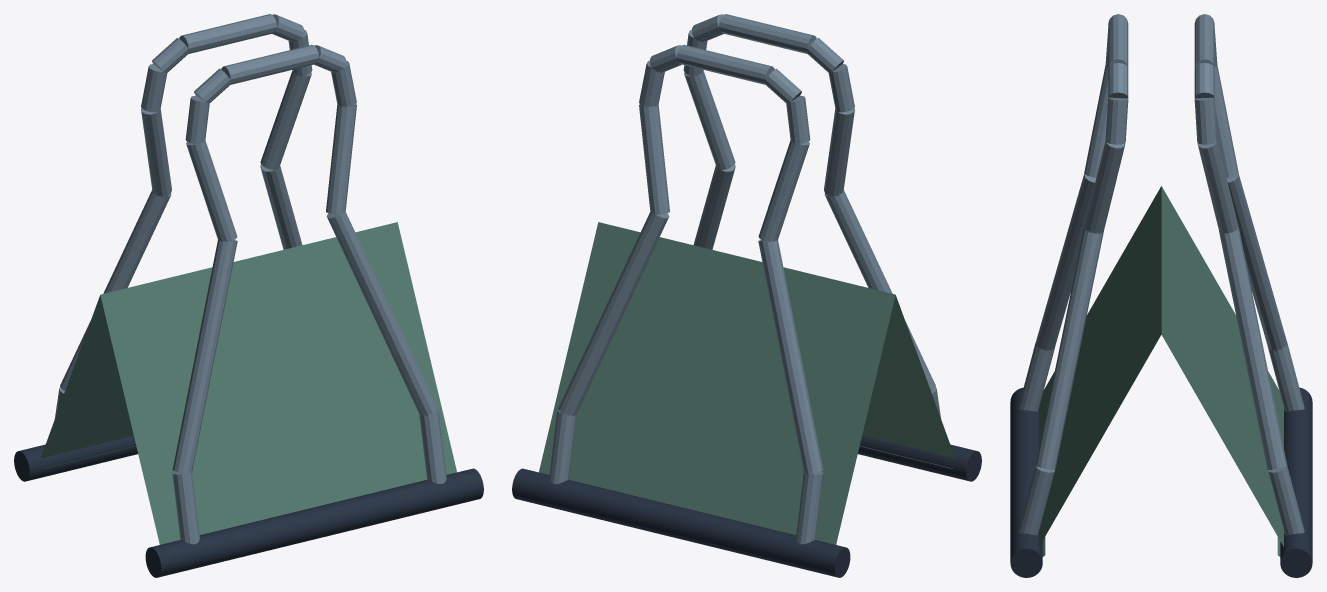
The model's file is binder.glb.
The picture shows the model from 3 angles, left to right: view 1: azimuth 30°, elevation 25°; view 2: azimuth 150°, elevation 25°; view 3: azimuth 270°, elevation 25°; orthographic projection. The views are drawn at different scales.
Visible parts, largest first — view 1: fold 0, front lip, fold 1, wire 11, wire 19, rear lip, wire -11, wire 18, wire 12, wire -18, wire -15, wire 15 (+9 smaller); view 2: fold 1, rear lip, fold 0, wire -11, wire -19, front lip, wire 11, wire -18, wire -12, wire 18, wire 15, wire -15 (+9 smaller); view 3: fold 0, fold 1, wire -19, wire 19, rear lip, front lip, wire -11, wire 11, wire -18, wire 18, wire -110, wire 110 (+10 smaller).
Boxes of the visible parts, x1,y1,x2,y2 form: fold 0: (100,222,456,544); front lip: (145,468,483,577); fold 1: (41,295,133,458); wire 11: (172,240,237,473); wire 19: (326,211,437,416); rear lip: (14,436,137,481); wire -11: (60,190,171,391); wire 18: (326,104,356,214); wire 12: (186,140,237,241); wire -18: (260,70,311,169); wire -15: (179,14,276,53); wire 15: (221,45,319,84); fold 1: (539,222,895,544); rear lip: (512,468,850,577); fold 0: (862,295,954,458); wire -11: (758,240,823,473); wire -19: (558,211,669,416); front lip: (858,436,981,481); wire 11: (824,190,935,391); wire -18: (639,104,669,214); wire -12: (758,140,809,241); wire 18: (684,70,735,169); wire 15: (719,14,816,53); wire -15: (676,45,774,84); fold 0: (1039,186,1161,546); fold 1: (1161,186,1283,546); wire -19: (1219,228,1287,469); wire 19: (1035,228,1103,469); rear lip: (1280,387,1312,577); front lip: (1010,387,1042,577); wire -11: (1226,174,1287,350); wire 11: (1035,174,1096,350); wire -18: (1197,141,1238,233); wire 18: (1084,141,1125,233); wire -110: (1267,466,1304,535); wire 110: (1018,466,1055,535).
Size of the model in its own units: 1.02 by 1.36 by 0.806.
